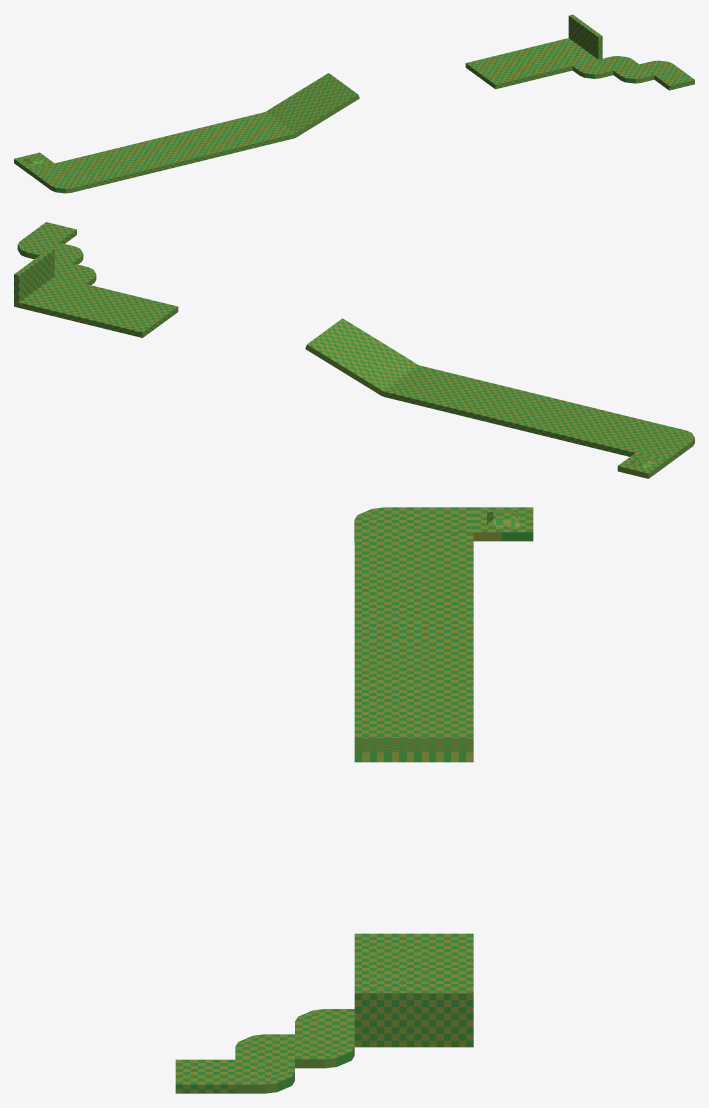
Rendered from level1.glb.
The picture shows the model from 3 angles, top to bottom: view 1: azimuth 30°, elevation 25°; view 2: azimuth 150°, elevation 25°; view 3: azimuth 270°, elevation 25°; orthographic projection. The views are drawn at different scales.
Visible parts, largest first — view 1: Plat.028; view 2: Plat.028; view 3: Plat.028.
Part boxes in pixels (x1=…): Plat.028: x1=14, y1=14, x2=694, y2=193; Plat.028: x1=14, y1=222, x2=694, y2=478; Plat.028: x1=175, y1=507, x2=533, y2=1093.
Bounding box in the file's own units: 138 × 6.26 × 36.
Materials: 6 (6 with a texture image).
